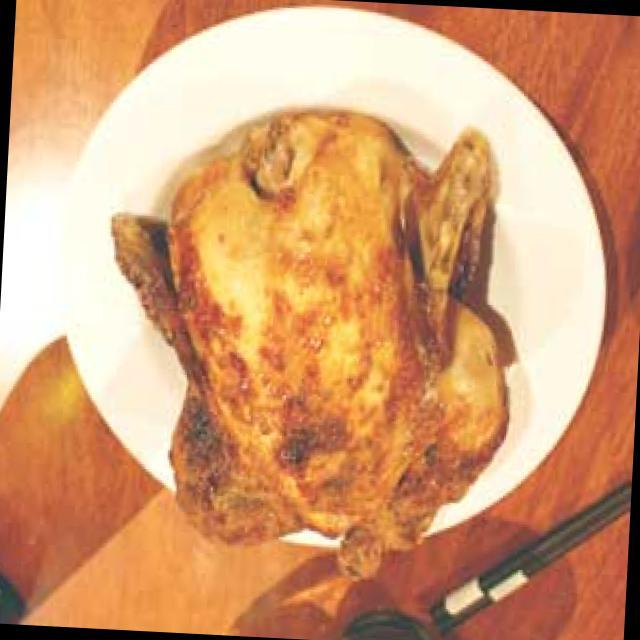Chicken: (88, 104, 525, 600)
